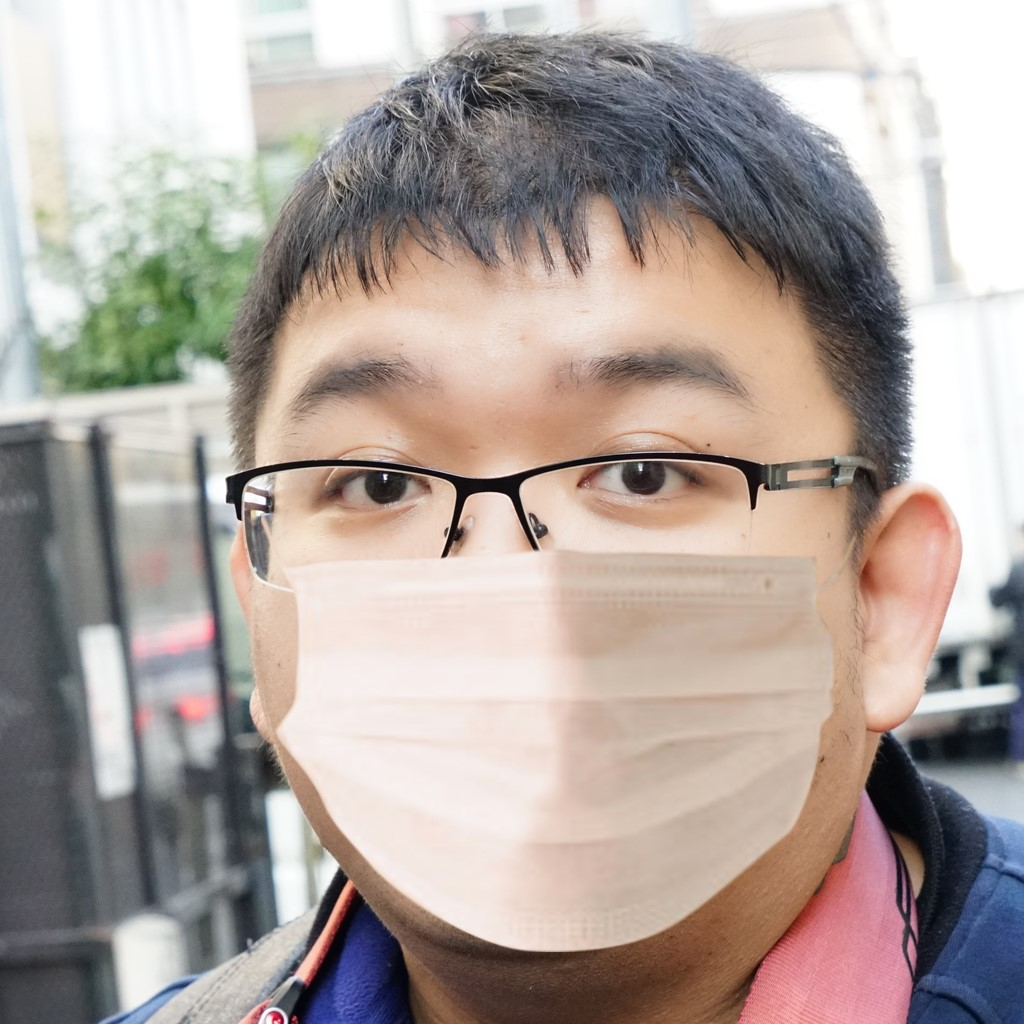con_mascara: (252, 177, 885, 964)
